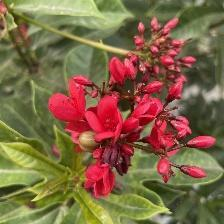jatropha: (90, 94, 128, 146), (50, 82, 89, 125), (126, 94, 165, 134), (83, 158, 116, 201)
